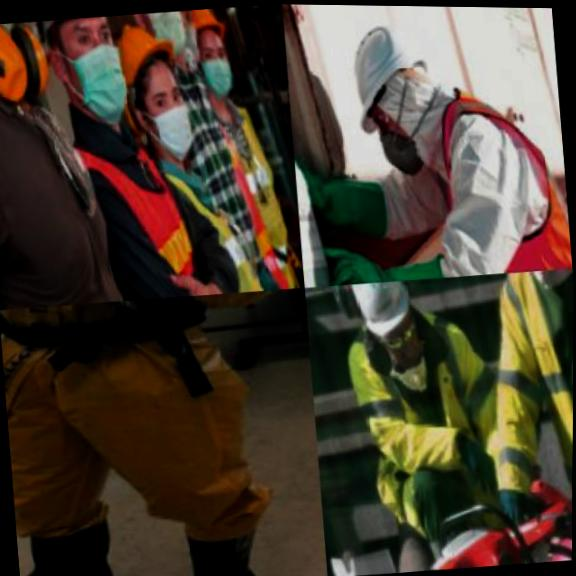safety_vest: (0, 284, 327, 576), (336, 312, 512, 538), (391, 71, 574, 282), (461, 267, 574, 555), (55, 104, 204, 306), (150, 143, 281, 299), (202, 95, 304, 294)
